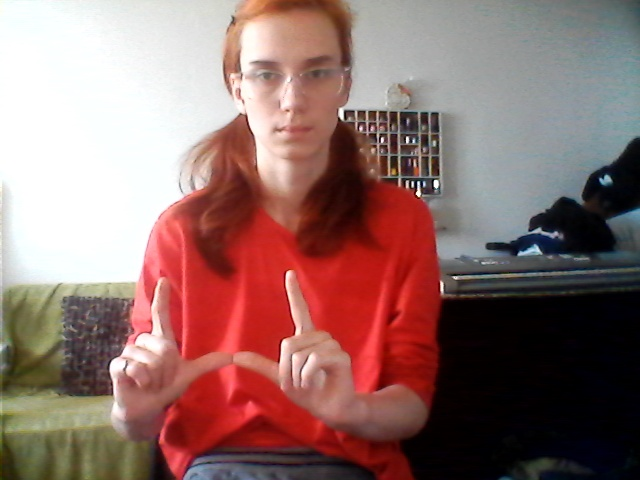u: (99, 266, 366, 428)
